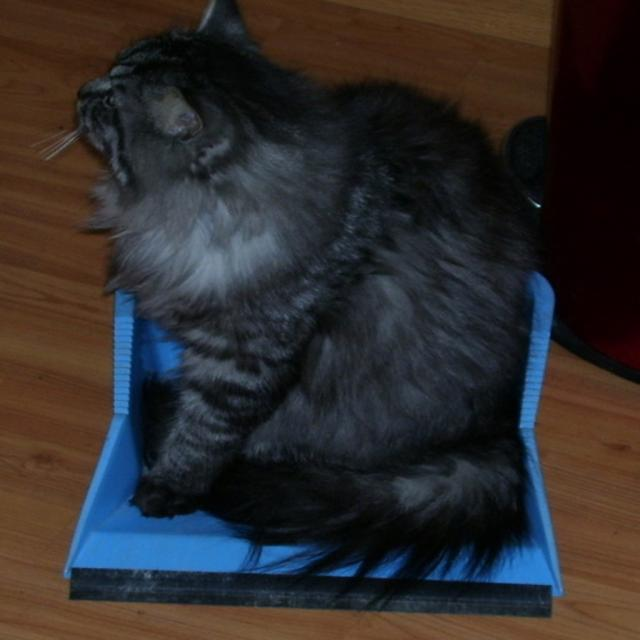Cat: (29, 0, 535, 612)
